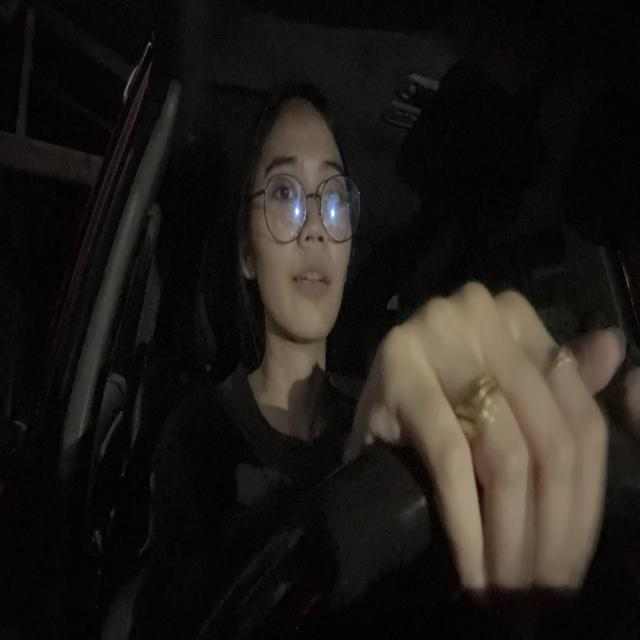open: (264, 151, 302, 218), (320, 152, 351, 222)
